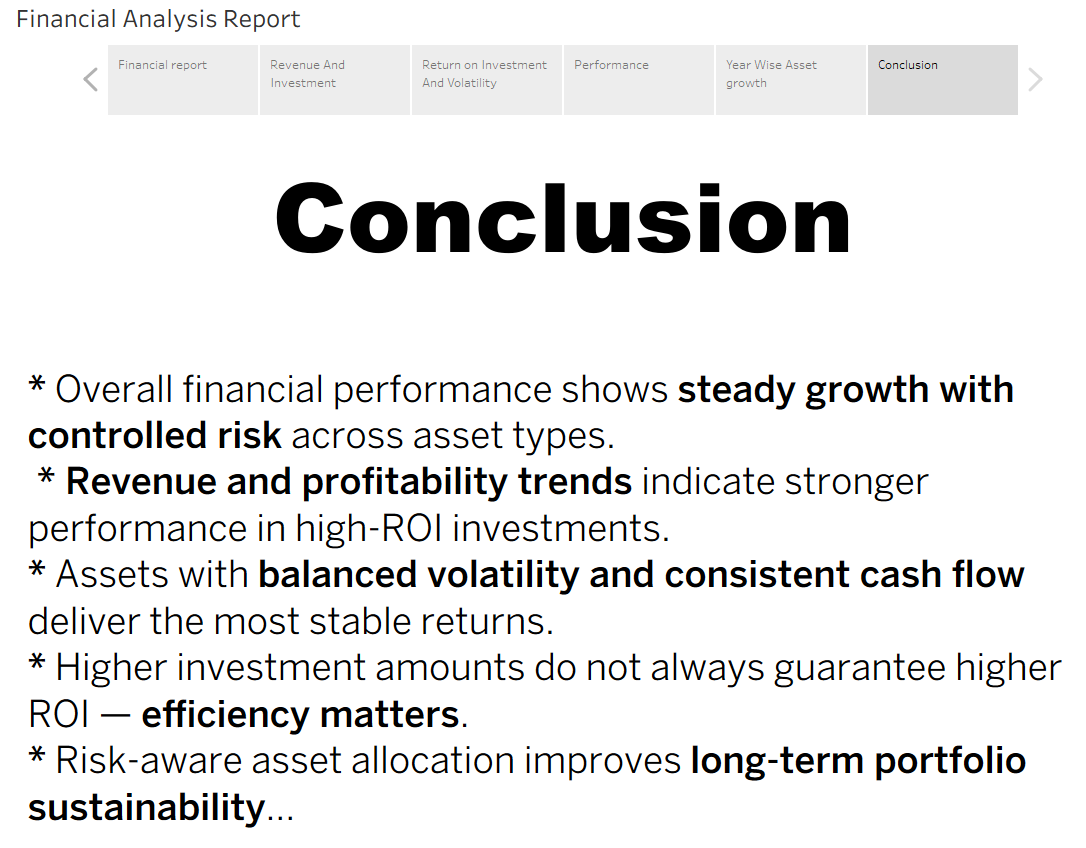

The page's visual inventory and layout, read from the dashboard file:
{"tool":"tableau","page":{"name":"Dashboard 6","canvas":[1000,1000],"units":"permille","ordinal":5},"visuals":[{"type":"text","box":[6.6,9.3,986.9,981.3]}]}

Visuals, with their boxes on the dashboard's canvas, which has no fixed pixel size, in thousandths of its width and height (x1, y1, x2, y2). These are canvas units, not pixel positions in the 1086x848 screenshot, which may show the page scaled, cropped or inside an application window:
text: region(7, 9, 994, 991)
